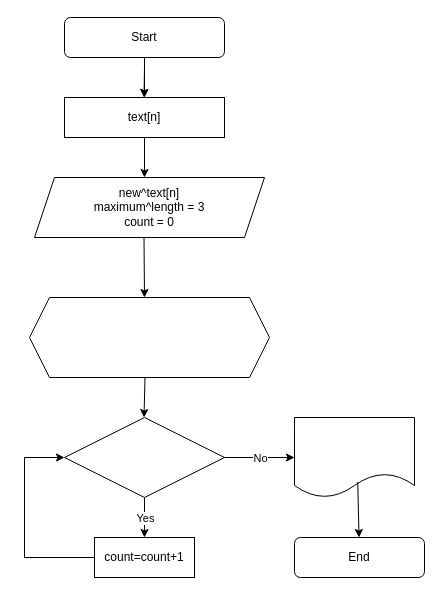
Image size: 442x595. Some labels were removed from this diagram. The centre of each missing label's shape, as x and y in pixels:
"i = 0 i < n i = i + 1" belongs at point (149, 337).
"new^text" belongs at point (354, 457).
"text[i].Length <= maximum^length" belongs at point (144, 457).
